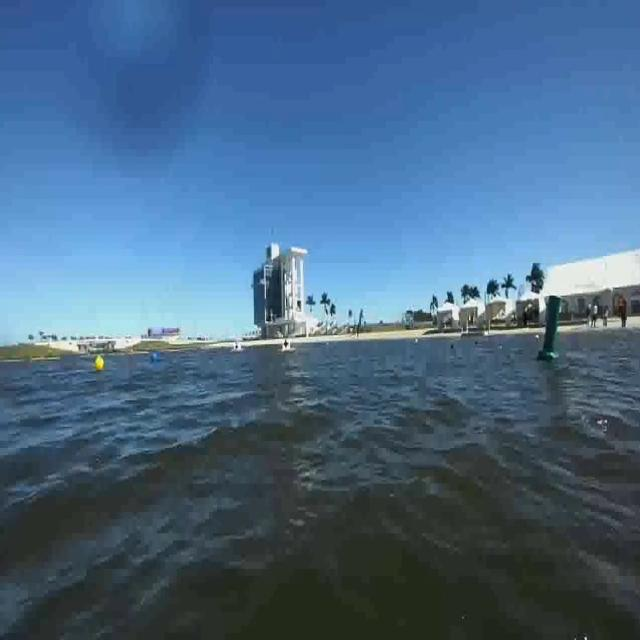blue-buoy: (150, 350, 159, 364)
green-column-buoy: (536, 294, 562, 361)
yellow-buoy: (95, 354, 106, 372)
